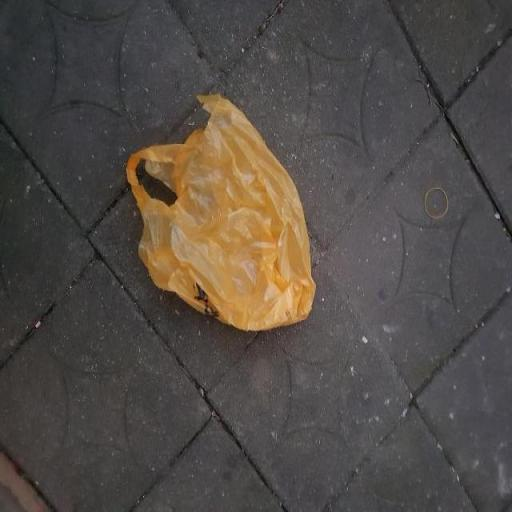plastic-bag: (124, 90, 318, 333)
